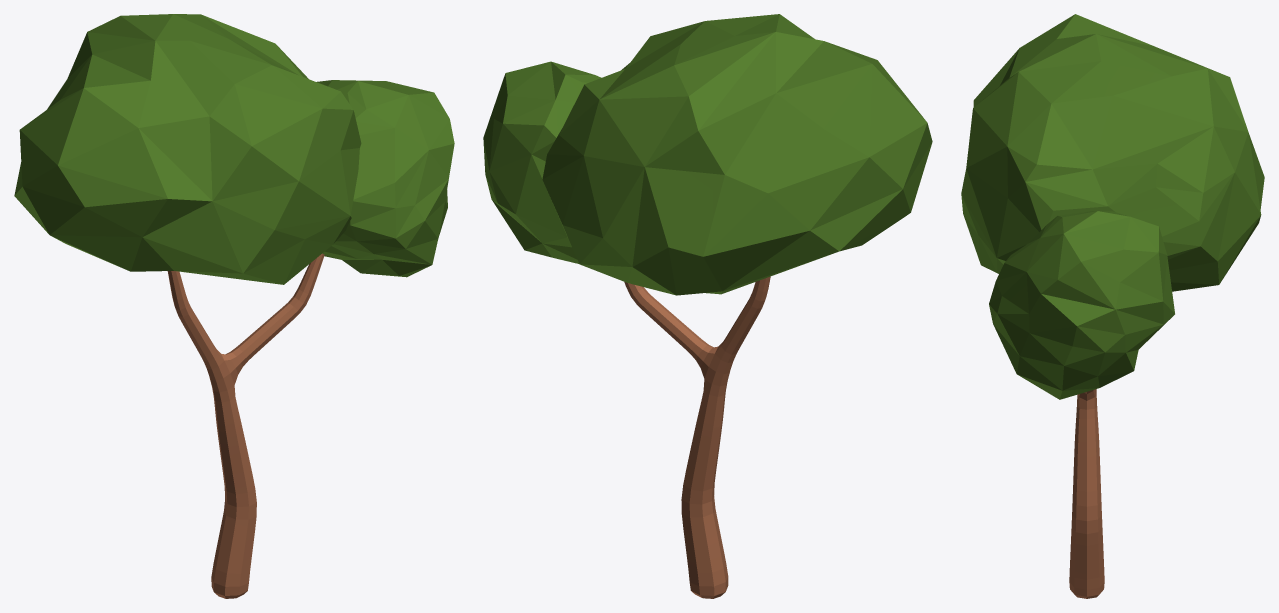
The model's file is -tree1.glb.
3 views of the same model, side by side, from view 1: azimuth 30°, elevation 25°; view 2: azimuth 150°, elevation 25°; view 3: azimuth 270°, elevation 25° (orthographic). The views are drawn at different scales.
Visible parts, largest first — view 1: tree1; view 2: tree1; view 3: tree1.
Boxes of the visible parts, <box> form: tree1: <box>14,14,454,598</box>; tree1: <box>483,14,932,598</box>; tree1: <box>961,14,1264,598</box>.
Bounding box in the file's own units: 1.33 × 1.74 × 0.9043.
2 materials, 2 textured.
